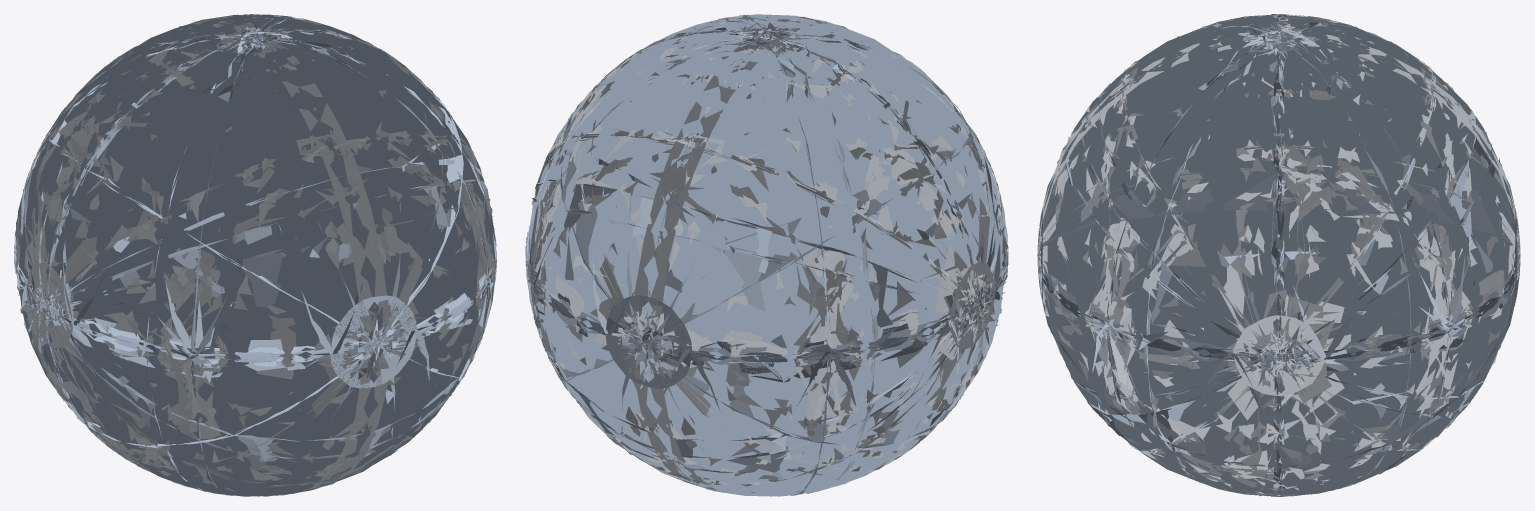
The model's file is dsf.glb.
The picture shows the model from 3 angles, left to right: view 1: azimuth 30°, elevation 25°; view 2: azimuth 150°, elevation 25°; view 3: azimuth 270°, elevation 25°; orthographic projection.
Parts seen in each view (by area): view 1: Bracing, Stairs, Deck support frame; view 2: Bracing, Stairs, Deck support frame; view 3: Bracing, Stairs, Deck support frame.
Part boxes in pixels (bbox=[...]): Bracing: bbox=[14, 14, 496, 496]; Stairs: bbox=[15, 14, 495, 496]; Deck support frame: bbox=[14, 14, 496, 496]; Bracing: bbox=[525, 14, 1008, 496]; Stairs: bbox=[526, 16, 1008, 495]; Deck support frame: bbox=[525, 14, 1008, 496]; Bracing: bbox=[1038, 15, 1520, 496]; Stairs: bbox=[1037, 14, 1520, 496]; Deck support frame: bbox=[1037, 14, 1520, 496].
Bounding box in the file's own units: 2 × 2 × 2.
